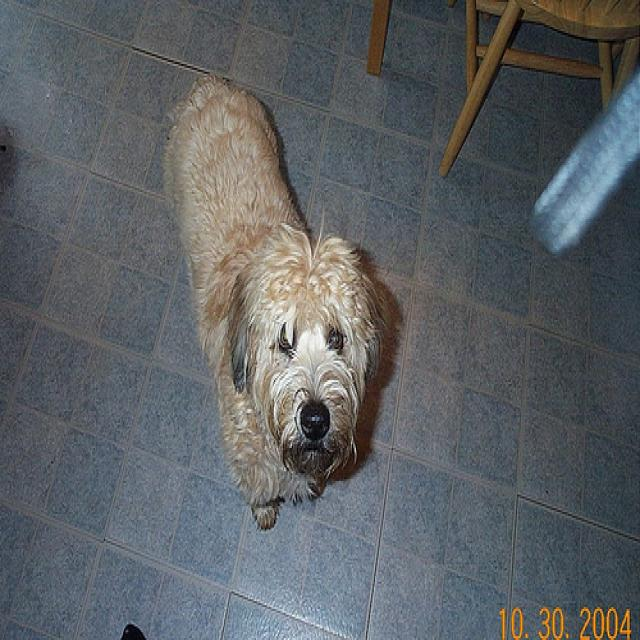dog: (230, 243, 382, 462)
